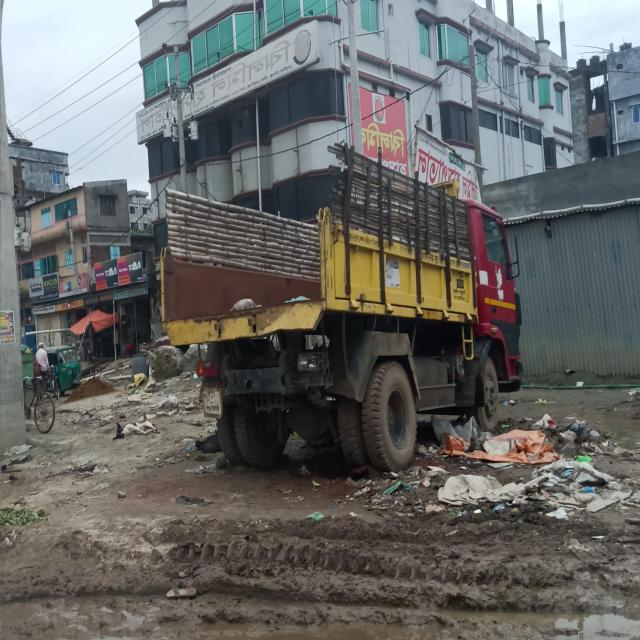truck: (128, 146, 529, 478)
